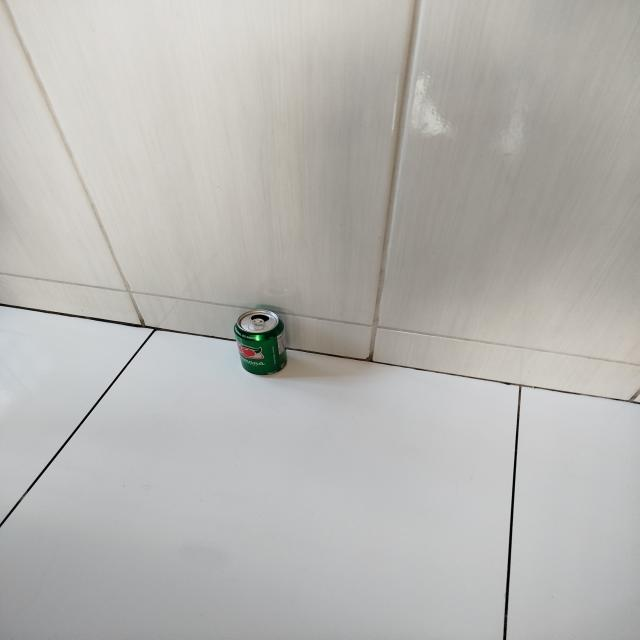Guarana: (233, 307, 296, 376)
